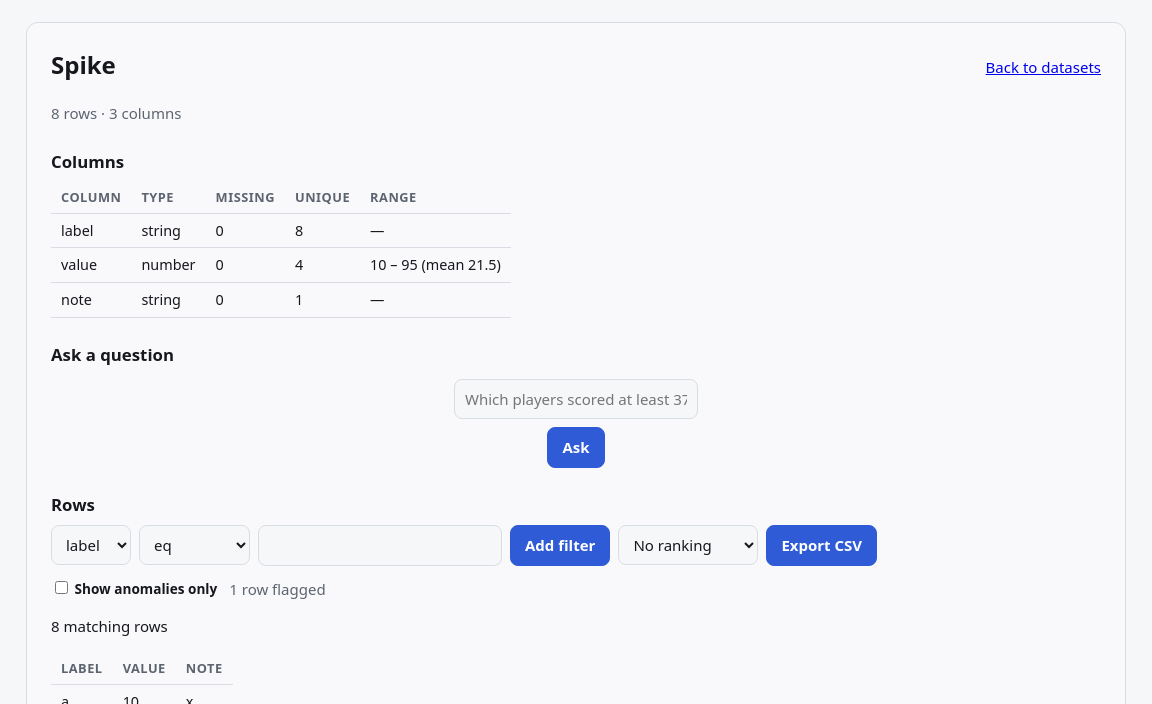
Test: ask box › shows the generated filters and match count, and applies them on request
This screenshot has width=1152, height=704.
Check: the text "8 matching rows" is shown, box [51,616,168,636]
Type "  which values are 12 or more?  " into the field with test id "ask-input" at coordinates (576, 399), box [454,379,698,419]
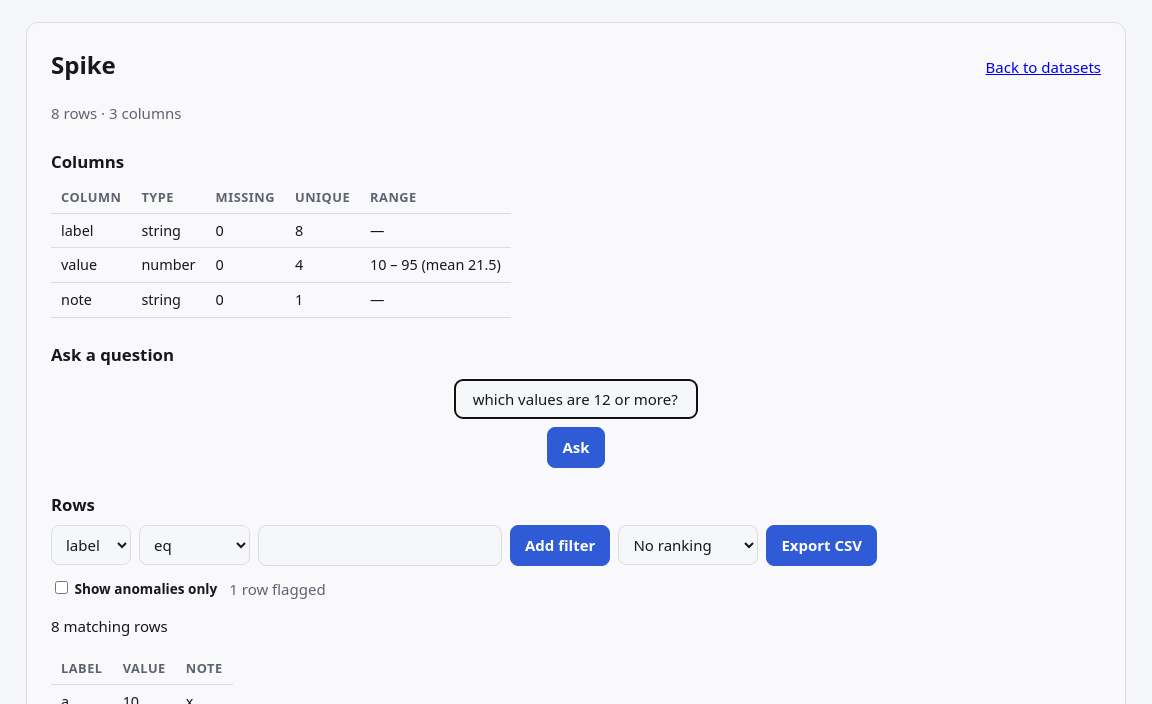
Click the button with test id "ask-submit" at coordinates (576, 448), box [547,427,604,468]
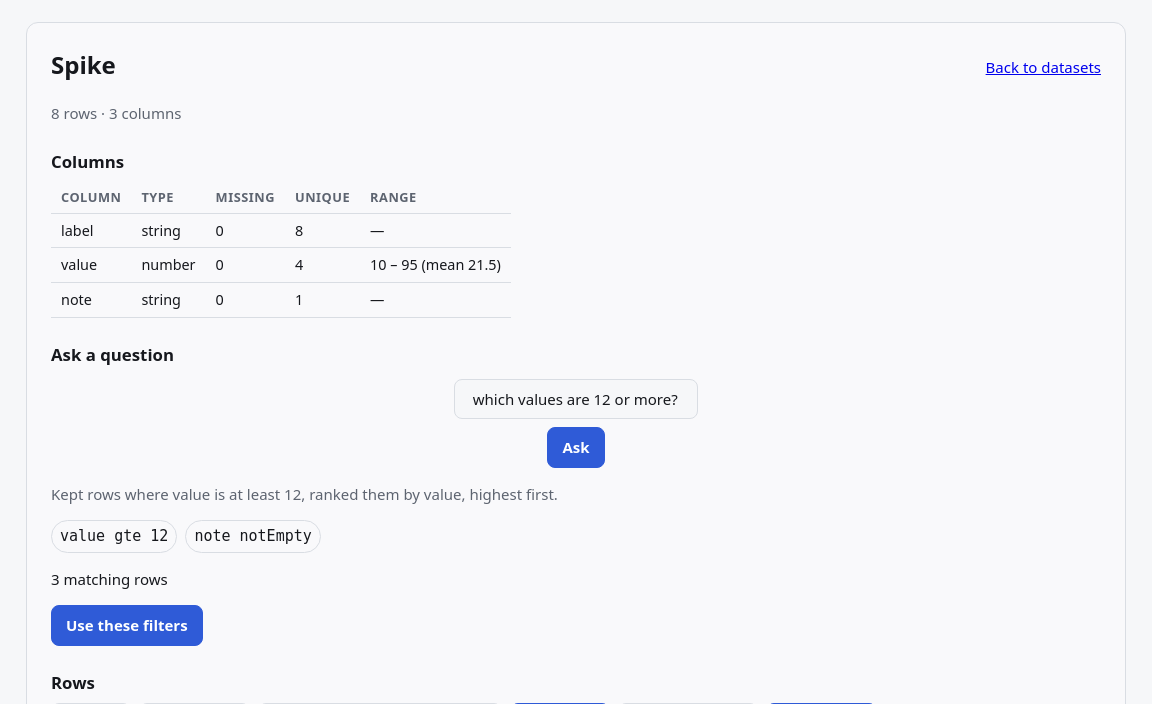
Check: the elements with test id "ask-filter-chip" read "value gte 12", "note notEmpty", in this order, box [51,520,177,553]; [185,520,321,553]
Check: the text with test id "ask-row-count" reads "3 matching rows", box [51,569,168,589]
Check: the text with test id "ask-explanation" shows "ranked them by value", box [51,484,558,504]
Click the button with test id "ask-apply" at coordinates (127, 626), box [51,605,203,646]
(page scrolled)
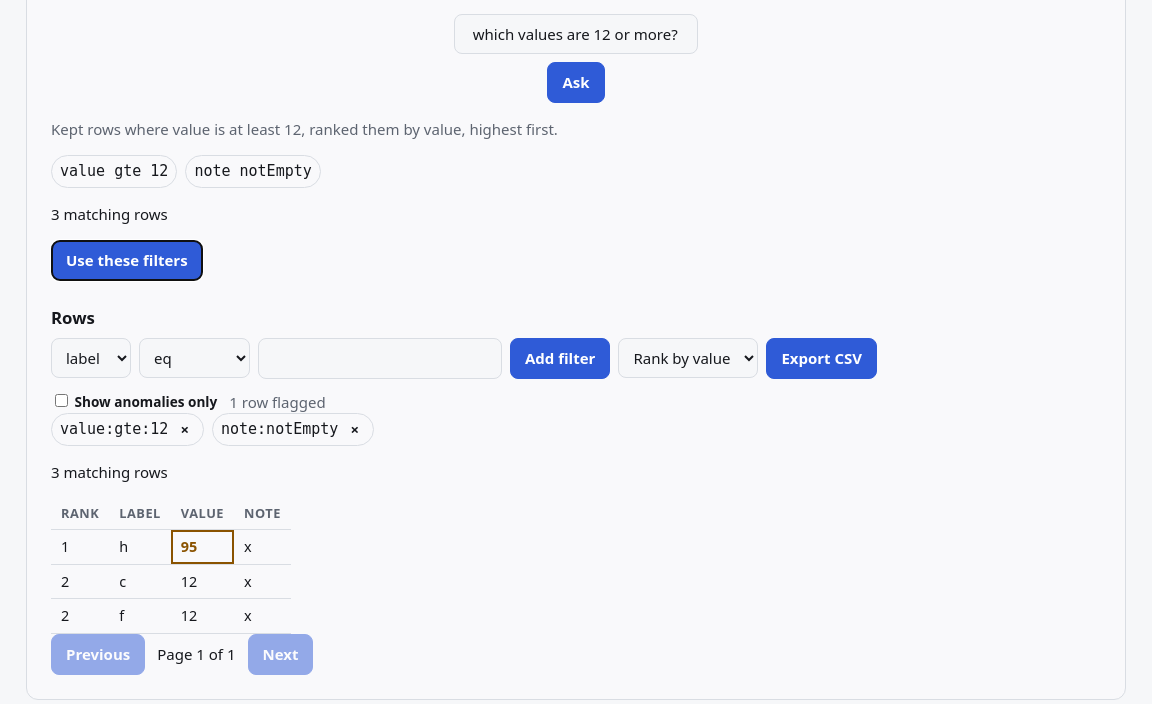
Check: the list with test id "active-filters" shows "value:gte:12", box [60,420,168,438]
Check: the list with test id "active-filters" shows "note:notEmpty", box [221,420,338,438]
Check: the text with test id "row-count" reads "3 matching rows", box [51,462,168,482]
